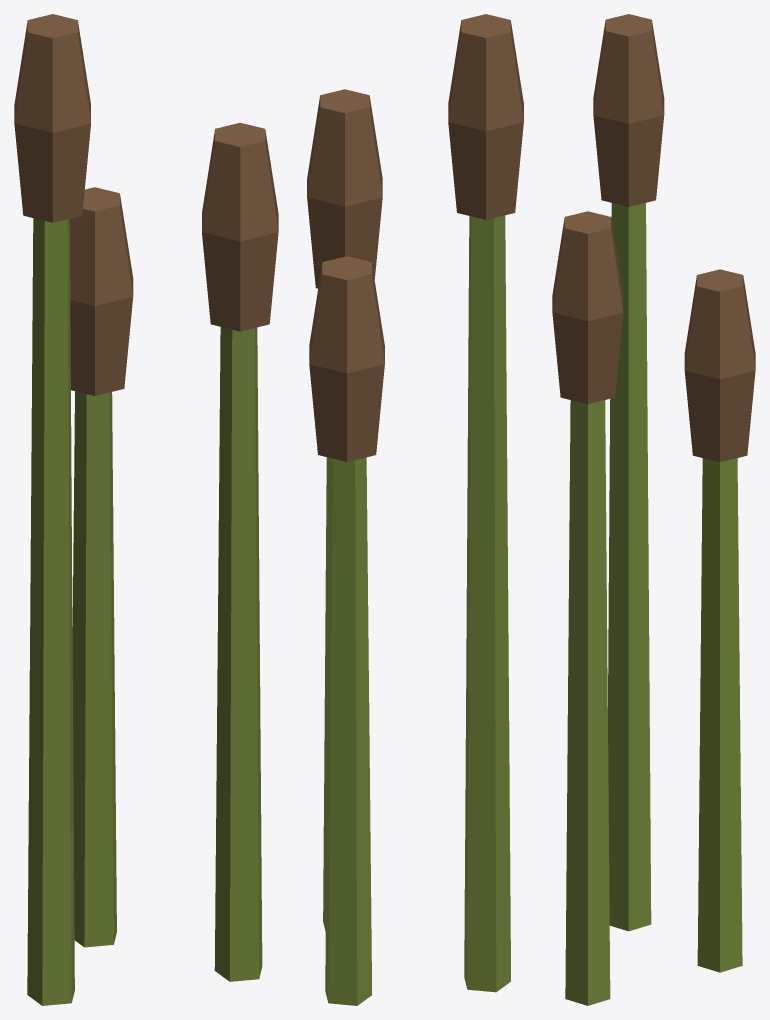
File: tife.glb
The picture shows the model from 3 angles, left to right: view 1: azimuth 30°, elevation 25°; view 2: azimuth 150°, elevation 25°; view 3: azimuth 270°, elevation 25°; orthographic projection. The views are drawn at different scales.
Bounding box in the file's own units: 0.82 × 3.14 × 0.6452.
